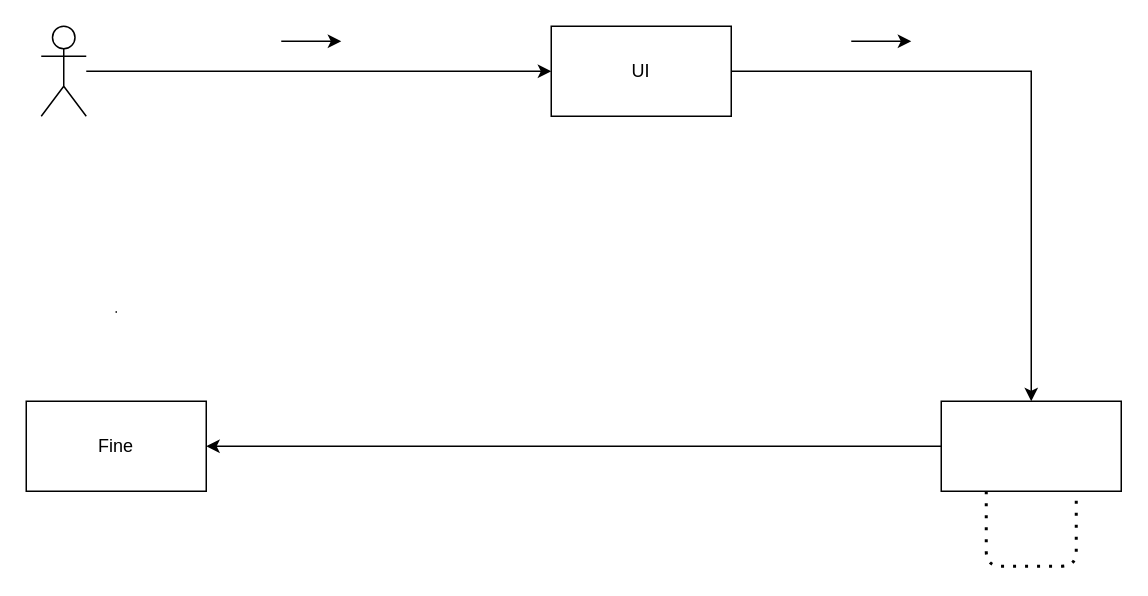
This 1148x596 diagram has some shape labels left out. The centre of each missing label's shape, as x and y in pixels:
"Actor" goes at point (63, 70).
"Transaction" goes at point (1030, 445).
